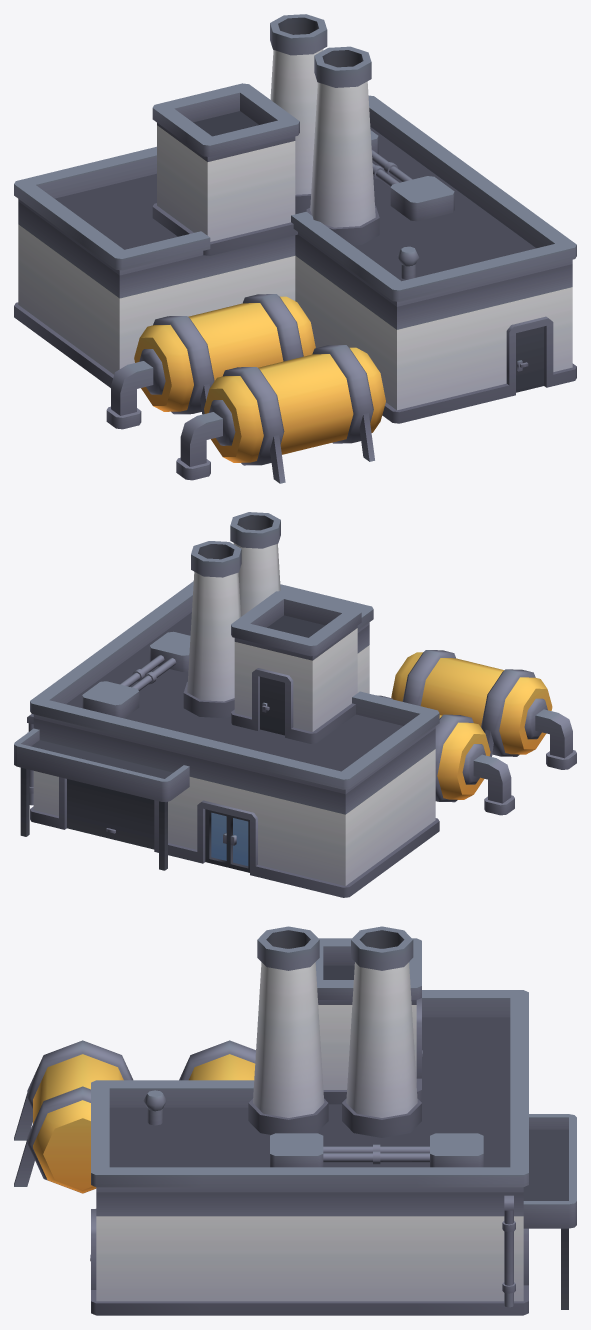
Rendered from k-city-kit-industrial-building-c.glb.
3 views of the same model, one above another, from view 1: azimuth 30°, elevation 25°; view 2: azimuth 150°, elevation 25°; view 3: azimuth 270°, elevation 25° (orthographic). The views are drawn at different scales.
Parts seen in each view (by area): view 1: building-c; view 2: building-c; view 3: building-c.
Part boxes in pixels (box(x1,y1,x2,y2)): building-c: box(14, 14, 576, 483); building-c: box(14, 512, 576, 897); building-c: box(14, 926, 576, 1315).
Size of the model in its own units: 1.88 by 1.25 by 2.11.
1 material, 1 textured.
